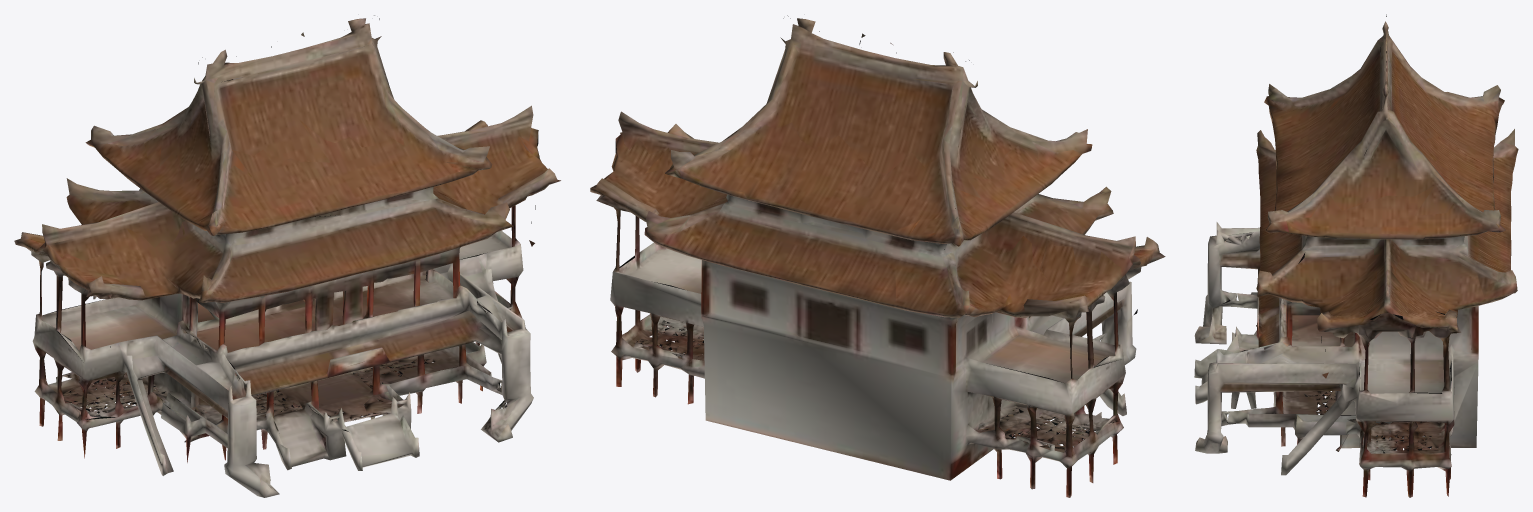
The model's file is palace_grand.bk.glb.
The picture shows the model from 3 angles, left to right: view 1: azimuth 30°, elevation 25°; view 2: azimuth 150°, elevation 25°; view 3: azimuth 270°, elevation 25°; orthographic projection. The views are drawn at different scales.
Parts seen in each view (by area): view 1: lo; view 2: lo; view 3: lo.
Boxes of the visible parts, <box> form: lo: <box>14,15,560,497</box>; lo: <box>590,15,1165,497</box>; lo: <box>1194,14,1518,497</box>.
Size of the model in its own units: 1.89 by 1.34 by 1.13.
1 material, 1 textured.
